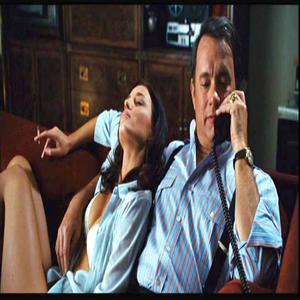cigarette: (36, 123, 41, 145)
